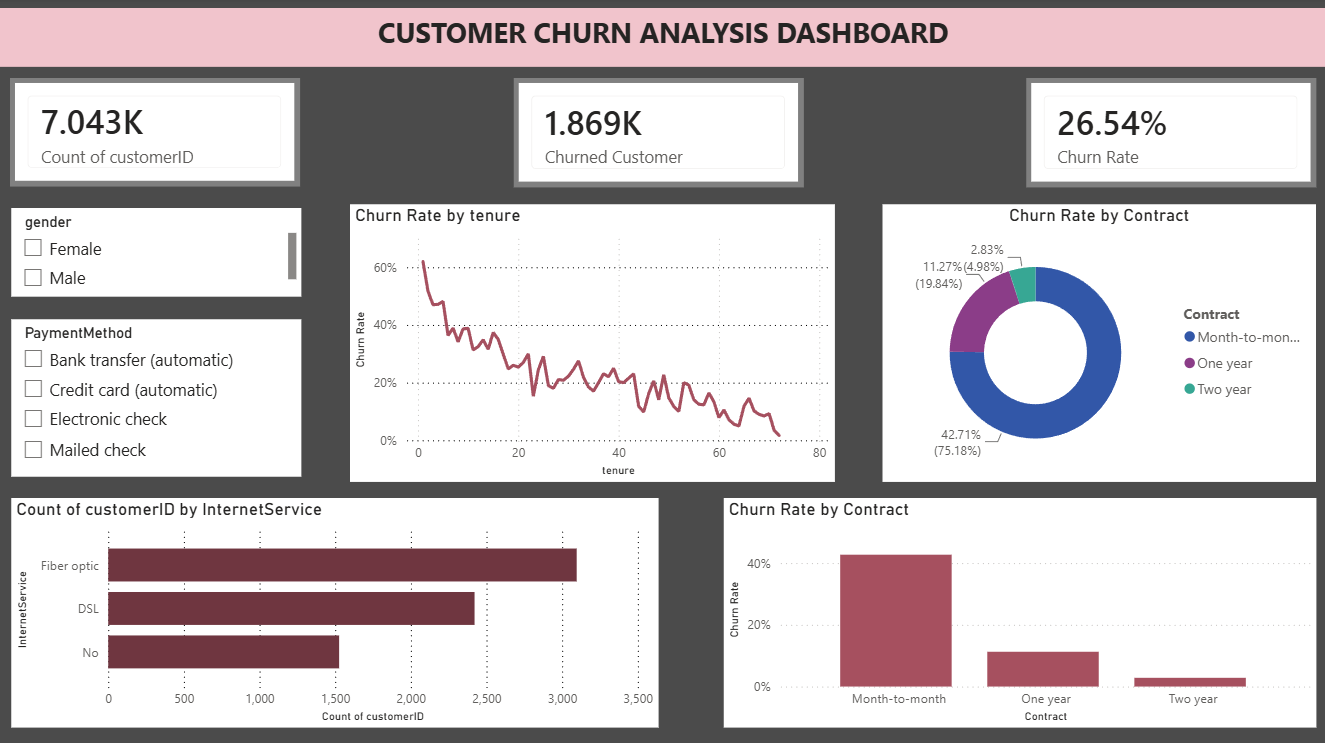

The dashboard page shown, as its layout file describes it:
{"tool":"powerbi","page":{"name":"Page 1","canvas":[1280,720],"ordinal":0},"visuals":[{"type":"cardVisual","fields":{"Data":["CountNonNull(WA_Fn-UseC_-Telco-Customer-Churn.customerID)"]},"box":[9.7,77.2,279.9,105],"z":0},{"type":"cardVisual","title":"Churned Customers","fields":{"Data":["CountNonNull(WA_Fn-UseC_-Telco-Customer-Churn.customerID)"]},"box":[495.4,76.8,279.9,105.7],"z":1000},{"type":"cardVisual","fields":{"Data":["WA_Fn-UseC_-Telco-Customer-Churn.Churn Rate"]},"box":[990.7,76.8,279.9,105.7],"z":2000},{"type":"slicer","fields":{"Values":["WA_Fn-UseC_-Telco-Customer-Churn.gender"]},"box":[10.9,203.1,279.9,85.7],"z":3000},{"type":"slicer","fields":{"Values":["WA_Fn-UseC_-Telco-Customer-Churn.PaymentMethod"]},"box":[10.9,309.7,279.9,152],"z":4000},{"type":"donutChart","fields":{"Category":["WA_Fn-UseC_-Telco-Customer-Churn.Contract"],"Y":["Customer-Churn-Dataset.Churn Rate"]},"box":[851.7,198.6,418.6,267.8],"z":5000},{"type":"clusteredBarChart","fields":{"Category":["WA_Fn-UseC_-Telco-Customer-Churn.InternetService"],"Y":["CountNonNull(WA_Fn-UseC_-Telco-Customer-Churn.customerID)"]},"box":[10.9,482.6,624.9,222],"z":6000},{"type":"lineChart","fields":{"Category":["WA_Fn-UseC_-Telco-Customer-Churn.tenure"],"Y":["Customer-Churn-Dataset.Churn Rate"]},"box":[337.2,198.6,468.1,267.8],"z":7000},{"type":"textbox","box":[0,9.7,1280,56.7],"z":8000},{"type":"clusteredColumnChart","fields":{"Category":["WA_Fn-UseC_-Telco-Customer-Churn.Contract"],"Y":["WA_Fn-UseC_-Telco-Customer-Churn.Churn Rate"]},"box":[698.5,482.6,571.9,222],"z":9000}]}

Visuals, with their boxes in screenshot pixels (x1, y1, x2, y2), scaled from the page's 1280x720 canvas onto the 1325x743 screenshot:
cardVisual - CountNonNull(WA_Fn-UseC_-Telco-Customer-Churn.customerID): 10, 80, 300, 188
"Churned Customers" cardVisual: 513, 79, 803, 188
cardVisual - WA_Fn-UseC_-Telco-Customer-Churn.Churn Rate: 1026, 79, 1315, 188
slicer - WA_Fn-UseC_-Telco-Customer-Churn.gender: 11, 210, 301, 298
slicer - WA_Fn-UseC_-Telco-Customer-Churn.PaymentMethod: 11, 320, 301, 476
donutChart - WA_Fn-UseC_-Telco-Customer-Churn.Contract x Customer-Churn-Dataset.Churn Rate: 882, 205, 1315, 481
clusteredBarChart - WA_Fn-UseC_-Telco-Customer-Churn.InternetService x CountNonNull(WA_Fn-UseC_-Telco-Customer-Churn.customerID): 11, 498, 658, 727
lineChart - WA_Fn-UseC_-Telco-Customer-Churn.tenure x Customer-Churn-Dataset.Churn Rate: 349, 205, 834, 481
textbox: 0, 10, 1324, 69
clusteredColumnChart - WA_Fn-UseC_-Telco-Customer-Churn.Contract x WA_Fn-UseC_-Telco-Customer-Churn.Churn Rate: 723, 498, 1315, 727
